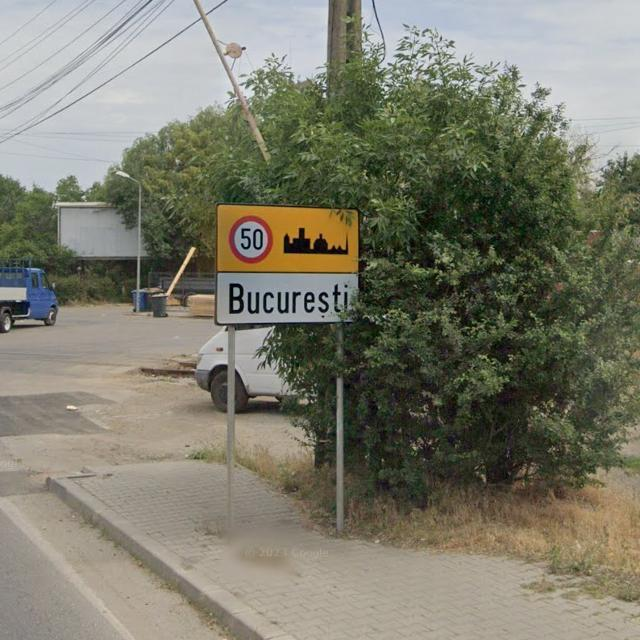forb_speed_over_50: (227, 213, 274, 264)
